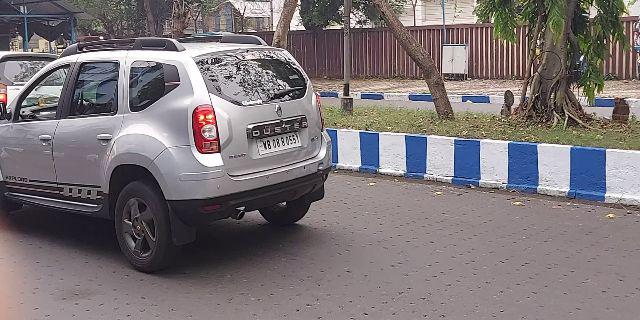Car: (5, 29, 342, 272)
